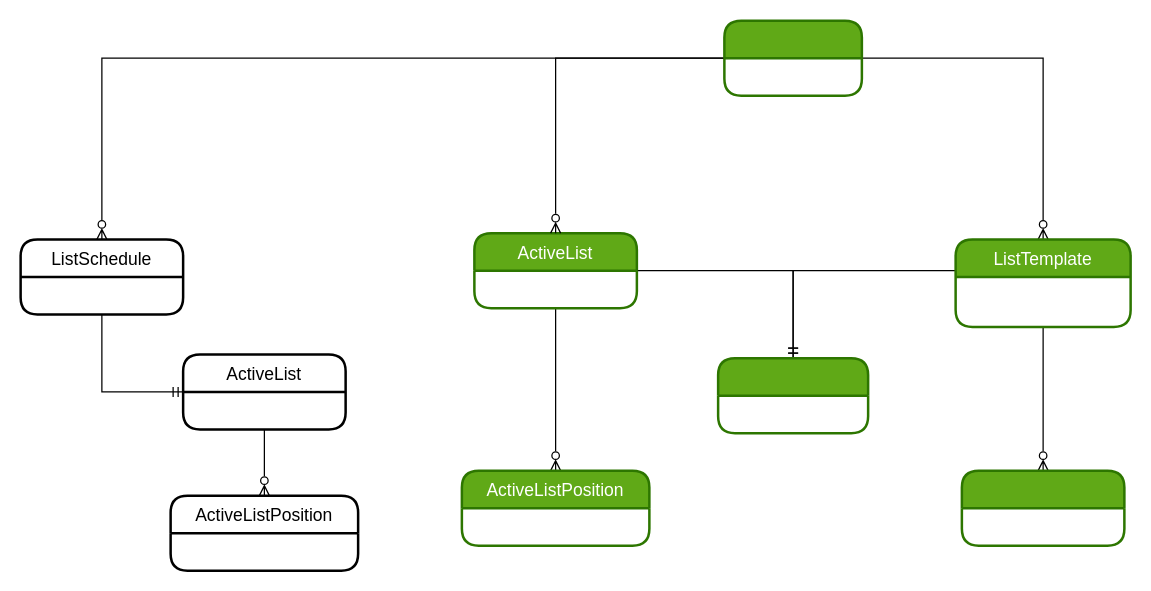
The diagram is 1151 pixels wide and 591 high, and some of its shapes have lost their labels. The shapes that lost their labels are listed below. From the top down, each one's centre as x and y in pixels, then its label:
(792,57): UserData
(792,395): ListType
(1042,507): ListTemplatePosition
